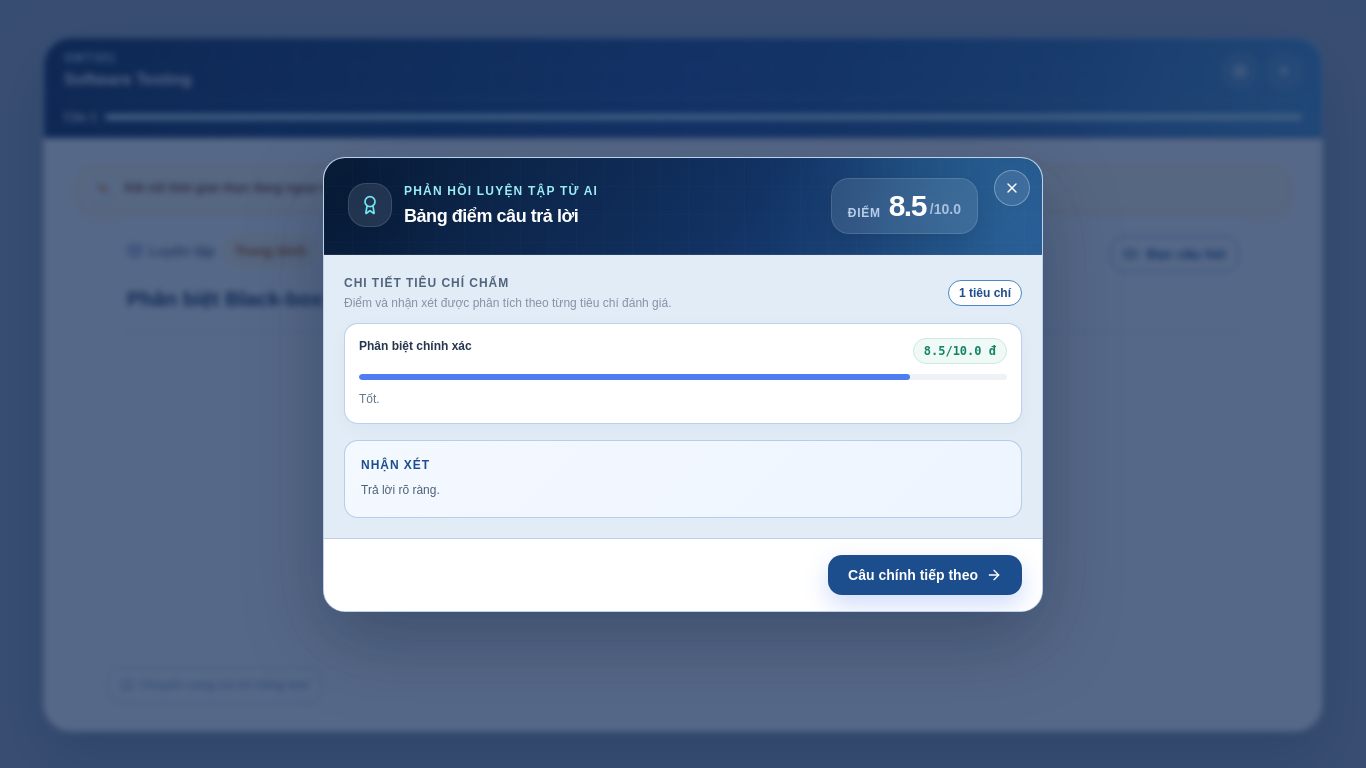
Test case: PracticeSessionPage M3 fixes › never resurrects ScorecardModal after 410 Gone in live pendingAnswerId flow or during the 900ms reveal window
The image size is (1366, 768).
Expected: the heading "Bảng điểm câu trả lời" is shown, [404,205,598,228]
Click the button "Câu chính tiếp theo". click: (925, 574)
box: [828,554,1022,594]
Wait 5000 ms
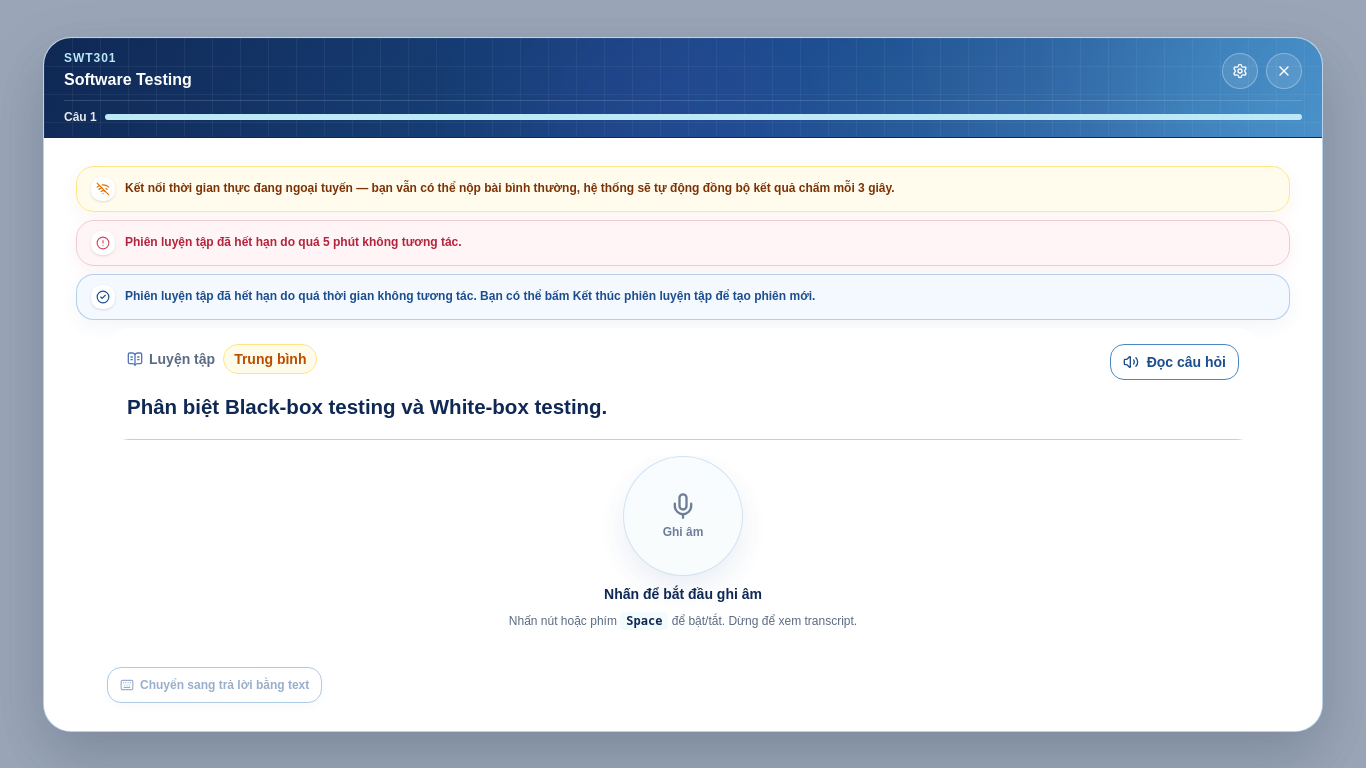
Expected: the text "Phiên luyện tập đã hết hạn do quá 5 phút không tương tác." is shown, [125,230,462,252]
Expected: the heading "Bảng điểm câu trả lời" is gone
